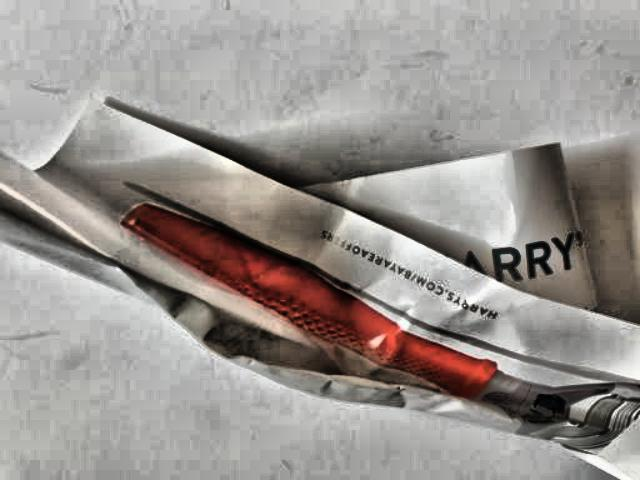Paper: (0, 74, 640, 478)
